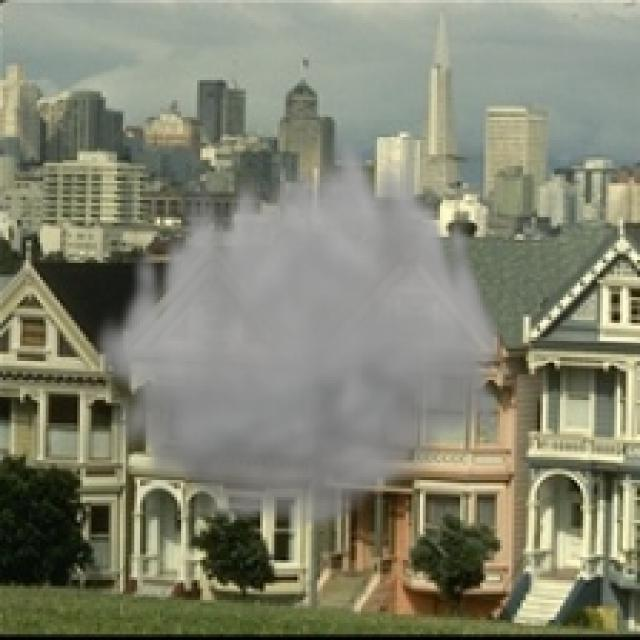smoke: (88, 120, 506, 537)
